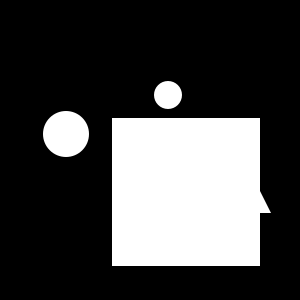circle: (112, 118, 260, 266)
rectangle: (43, 111, 89, 157), (154, 81, 182, 109)
triangle: (211, 153, 271, 213)
